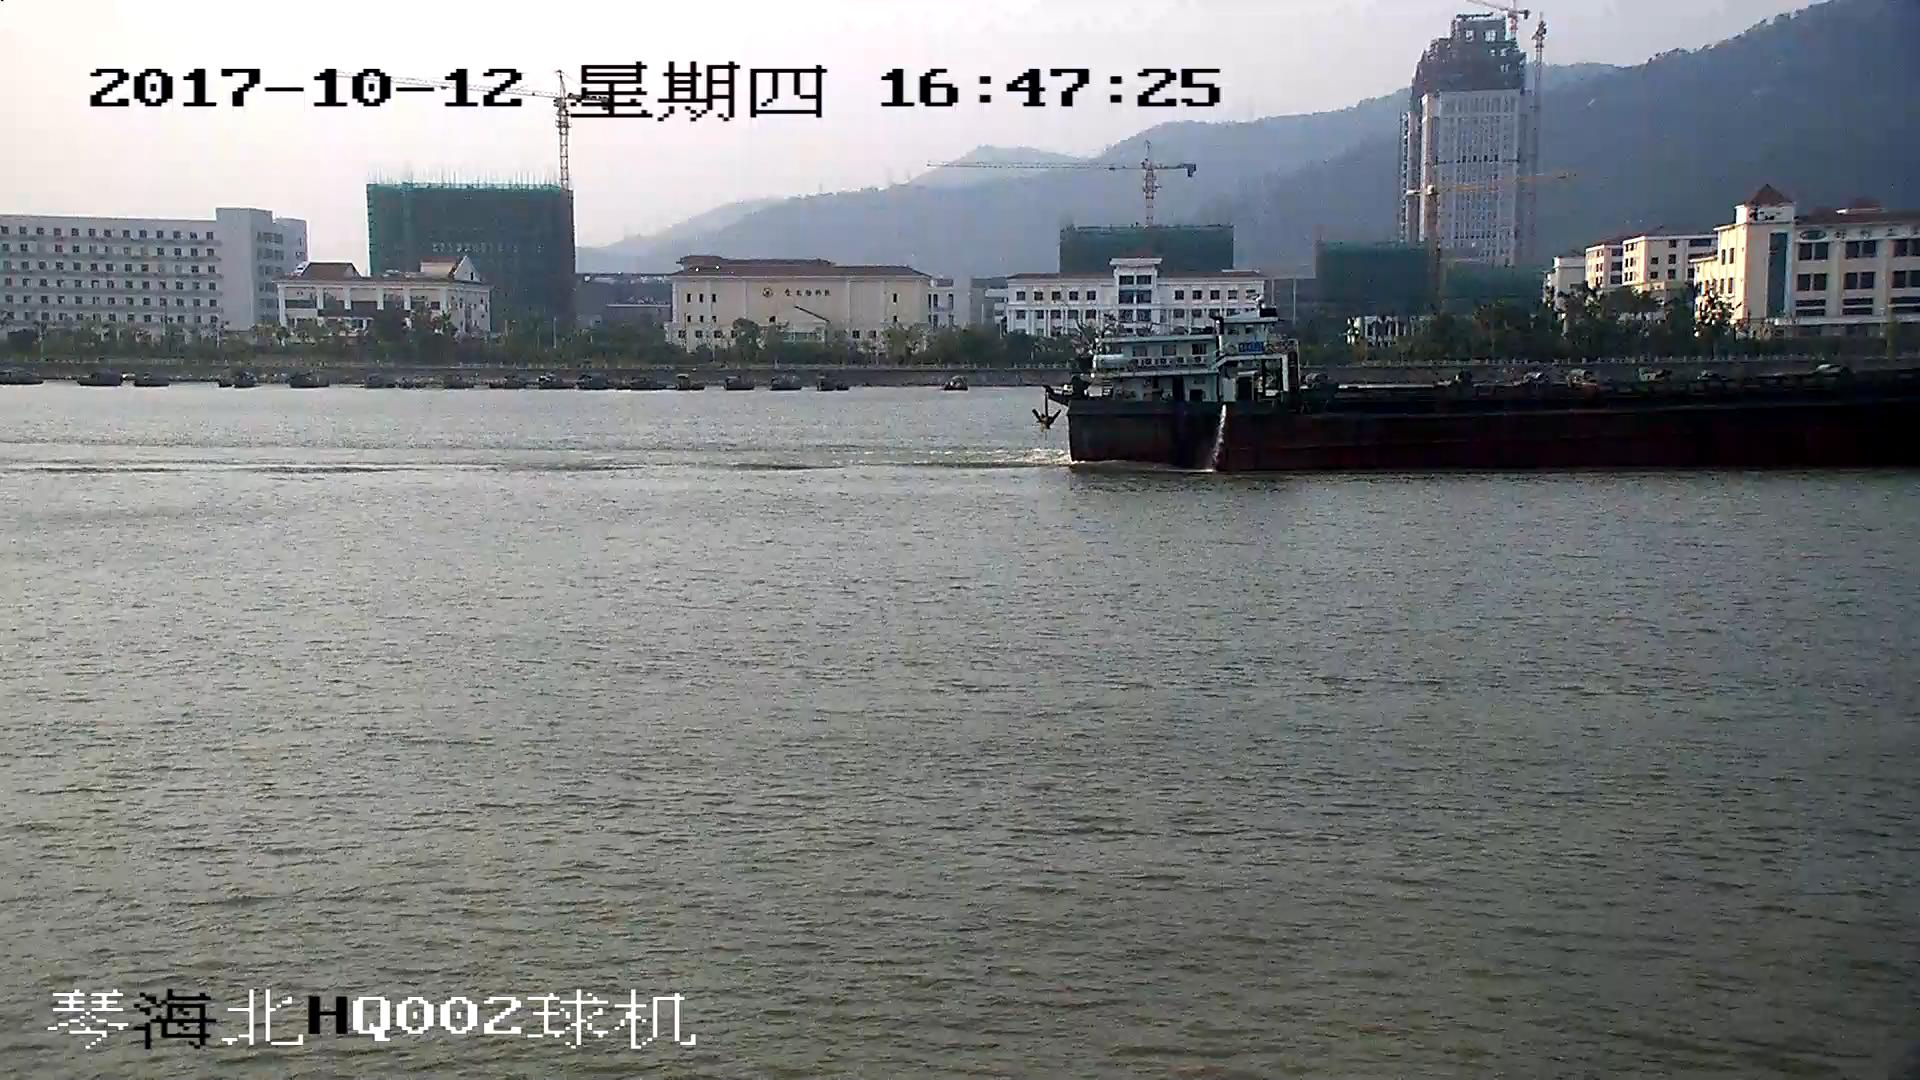bulk cargo carrier: (1040, 317, 1920, 469)
